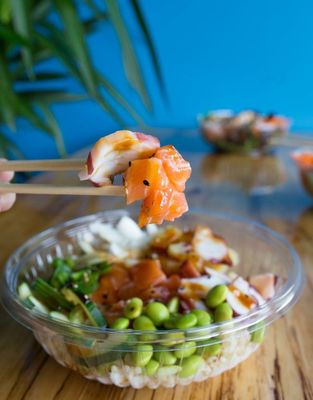sushi: (4, 207, 306, 390)
